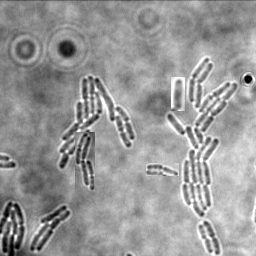Dividing: (204, 219, 222, 255), (199, 223, 215, 253), (171, 77, 185, 111), (146, 163, 179, 176)
Microcolony: (167, 57, 238, 216), (59, 75, 136, 169), (30, 204, 72, 251), (1, 200, 26, 255), (75, 132, 95, 191)
